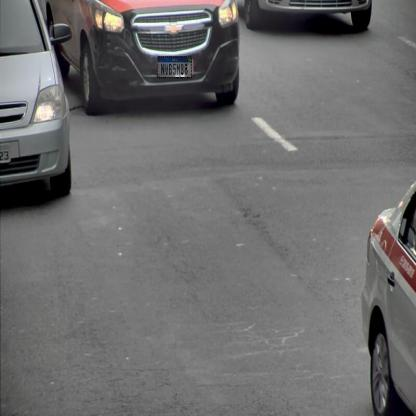PlacaM: (157, 57, 192, 78)
